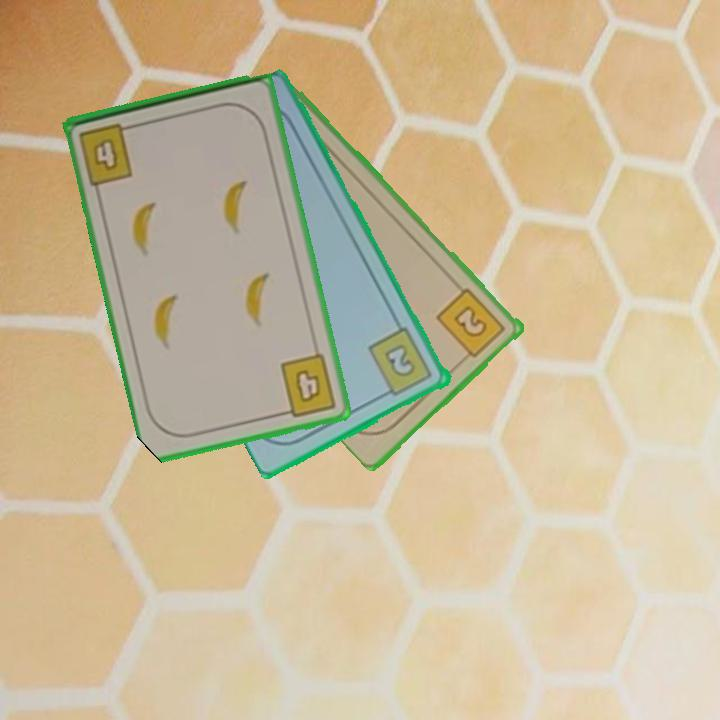2b: (433, 284, 509, 365), (365, 324, 436, 401)
4b: (75, 119, 140, 188), (276, 350, 340, 420)
